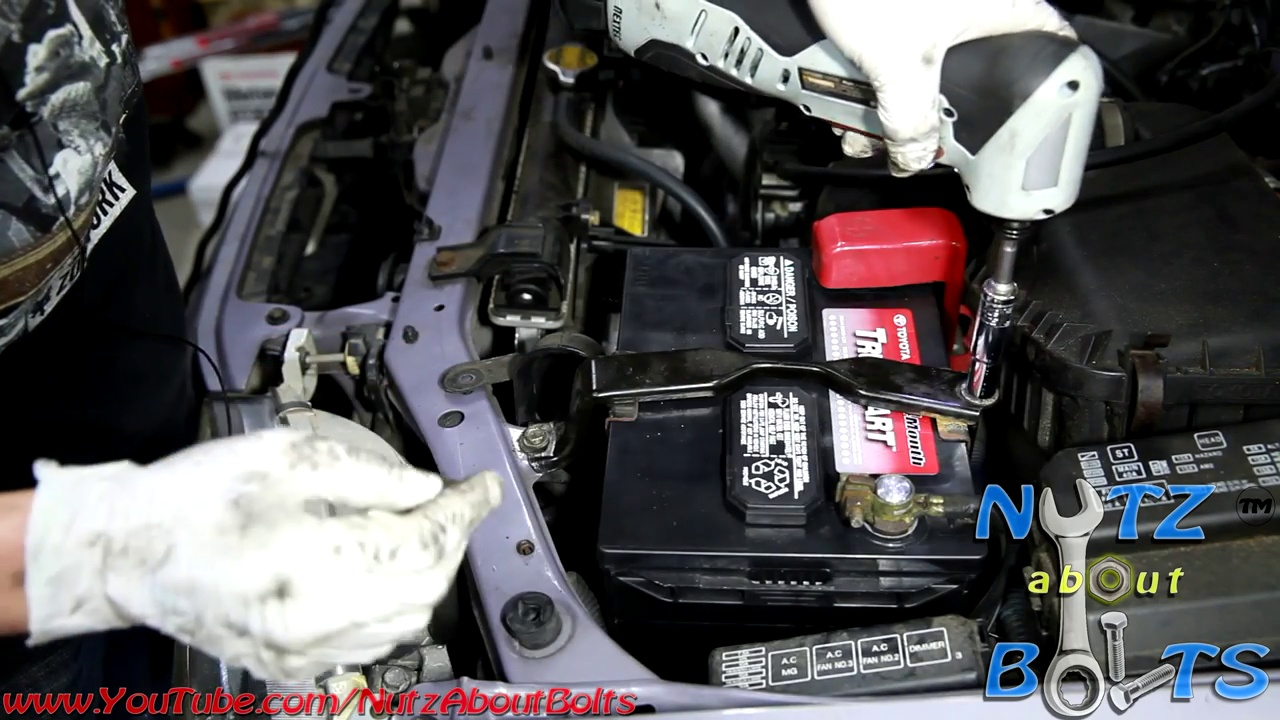battery: (615, 228, 983, 594)
neg_connected: (818, 452, 976, 548)
pos_connected: (786, 204, 974, 347)
